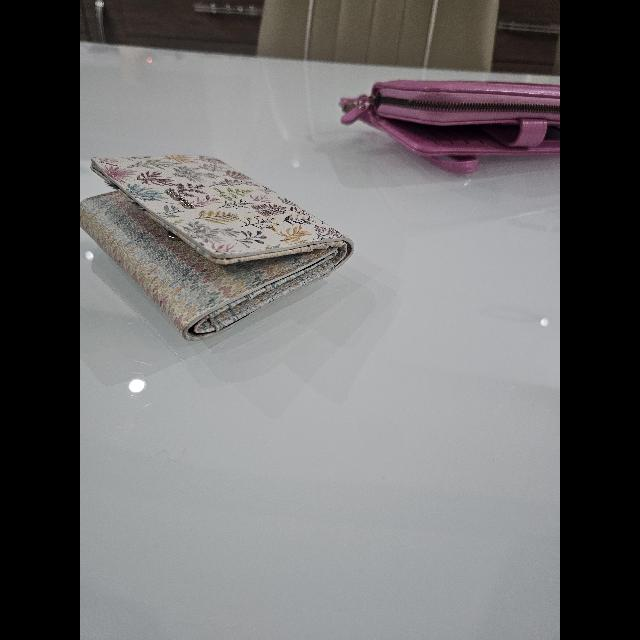Wallet: (80, 156, 354, 340), (340, 80, 560, 174)
